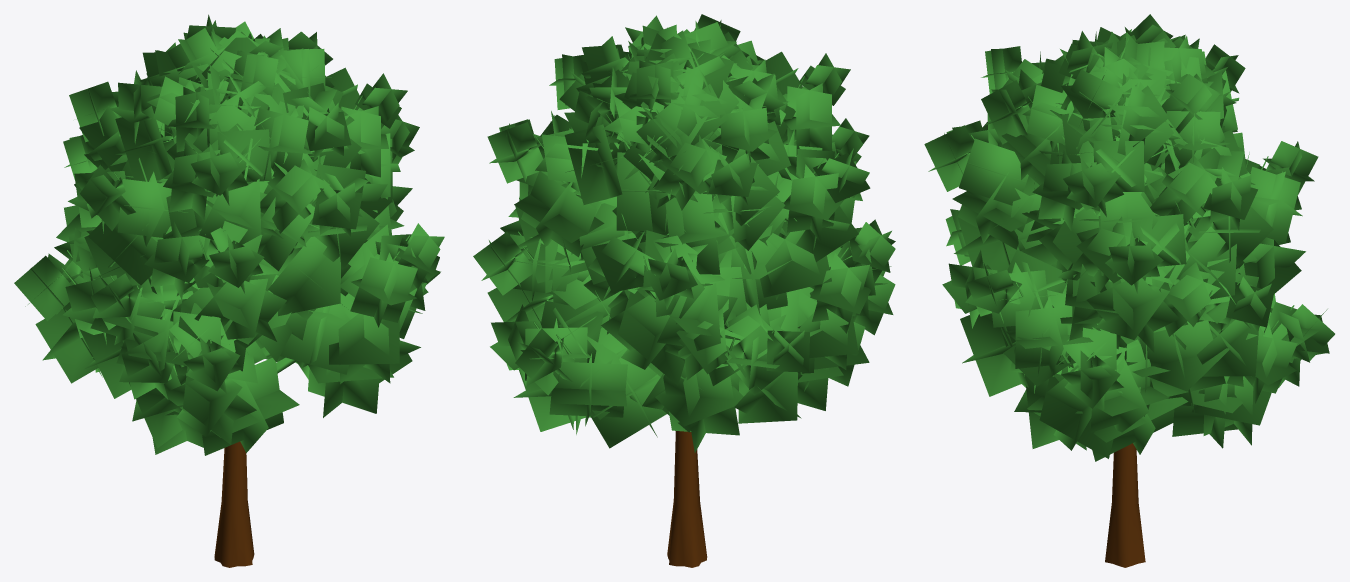
The model's file is arbre5.fbx.
3 renders of one model, left to right at view 1: azimuth 30°, elevation 25°; view 2: azimuth 150°, elevation 25°; view 3: azimuth 270°, elevation 25°, orthographic.
Parts seen in each view (by area): view 1: tree6.602; view 2: tree6.602; view 3: tree6.602.
Boxes of the visible parts, x1,y1,x2,y2 form: tree6.602: [14, 14, 444, 567]; tree6.602: [473, 14, 895, 567]; tree6.602: [924, 14, 1334, 567].
Size of the model in its own units: 340 by 473 by 334.
